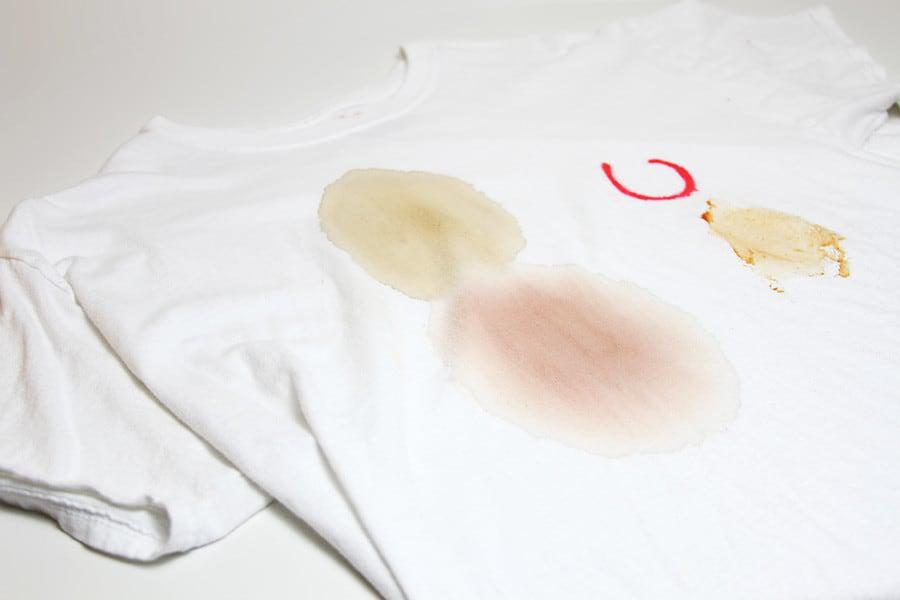gun: (416, 271, 751, 453), (316, 170, 519, 279), (702, 204, 866, 295), (596, 149, 717, 218)
